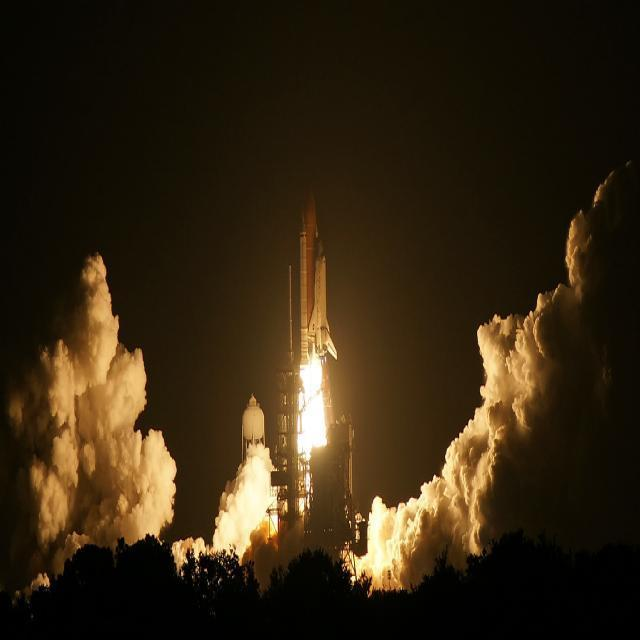missile: (298, 211, 309, 365)
